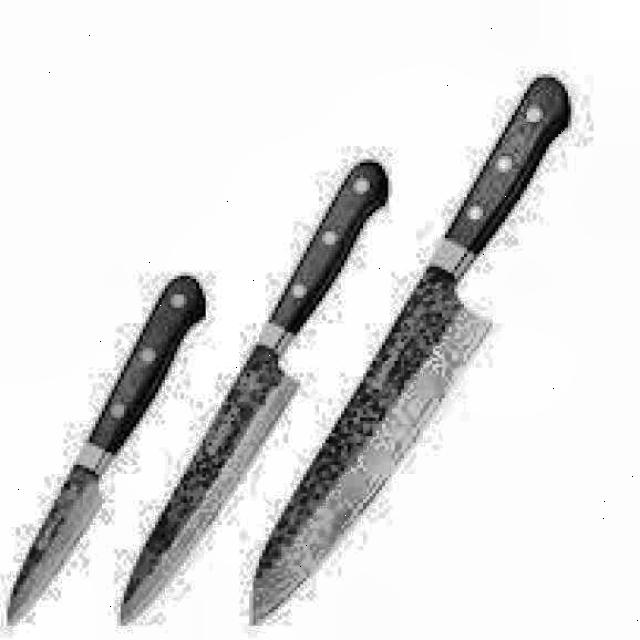knife: (246, 72, 580, 630), (117, 148, 399, 627), (3, 262, 214, 628)
